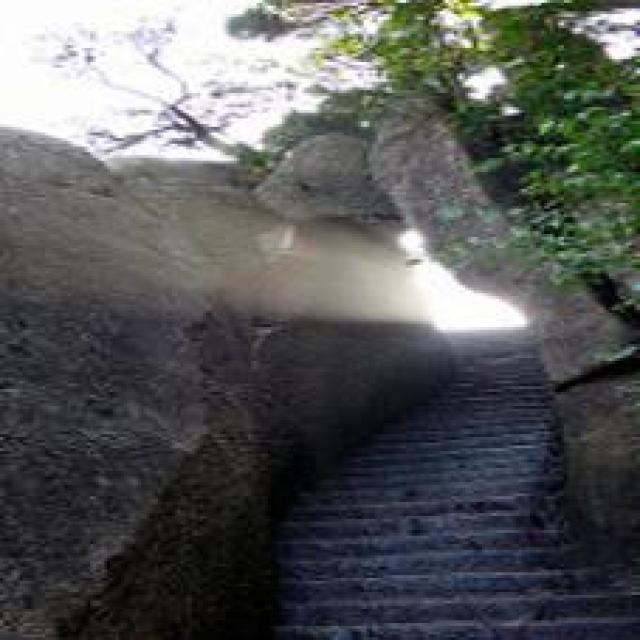stair: (278, 327, 637, 640)
